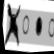correct: (33, 16, 44, 36)
not correct: (0, 2, 26, 49)
